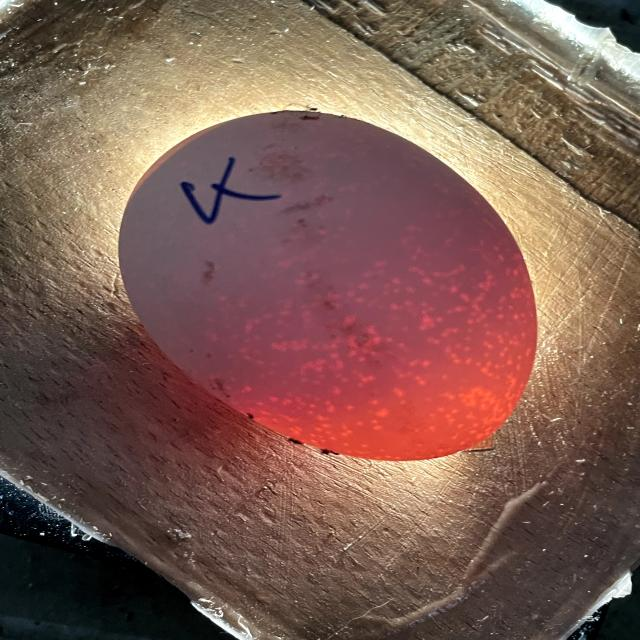fertile: (120, 111, 537, 460)
